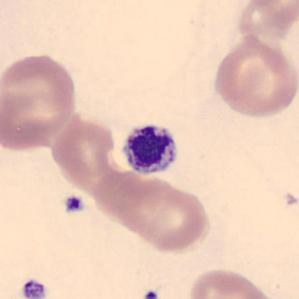Lymphocyte: (116, 118, 184, 180)
Platelets: (20, 277, 49, 299), (61, 193, 85, 215), (141, 288, 160, 299)
RBC: (0, 50, 80, 152), (210, 34, 296, 121), (127, 179, 213, 255), (48, 111, 120, 187), (185, 266, 280, 299), (234, 0, 298, 43)
